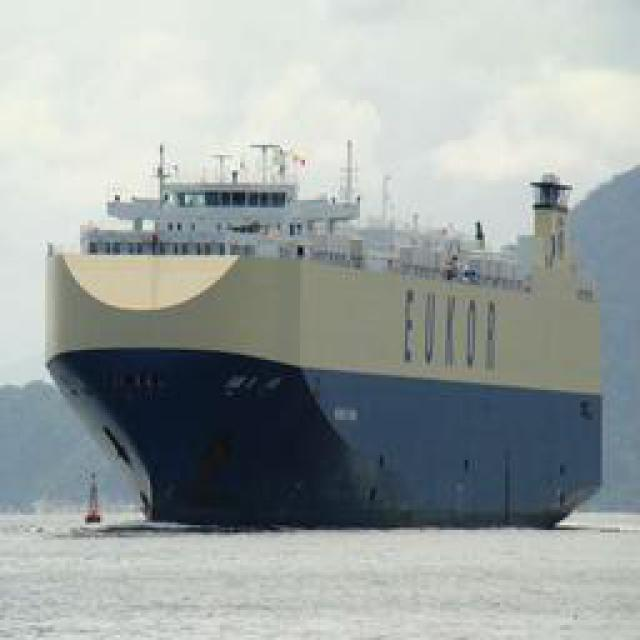Ship: (40, 141, 619, 539)
